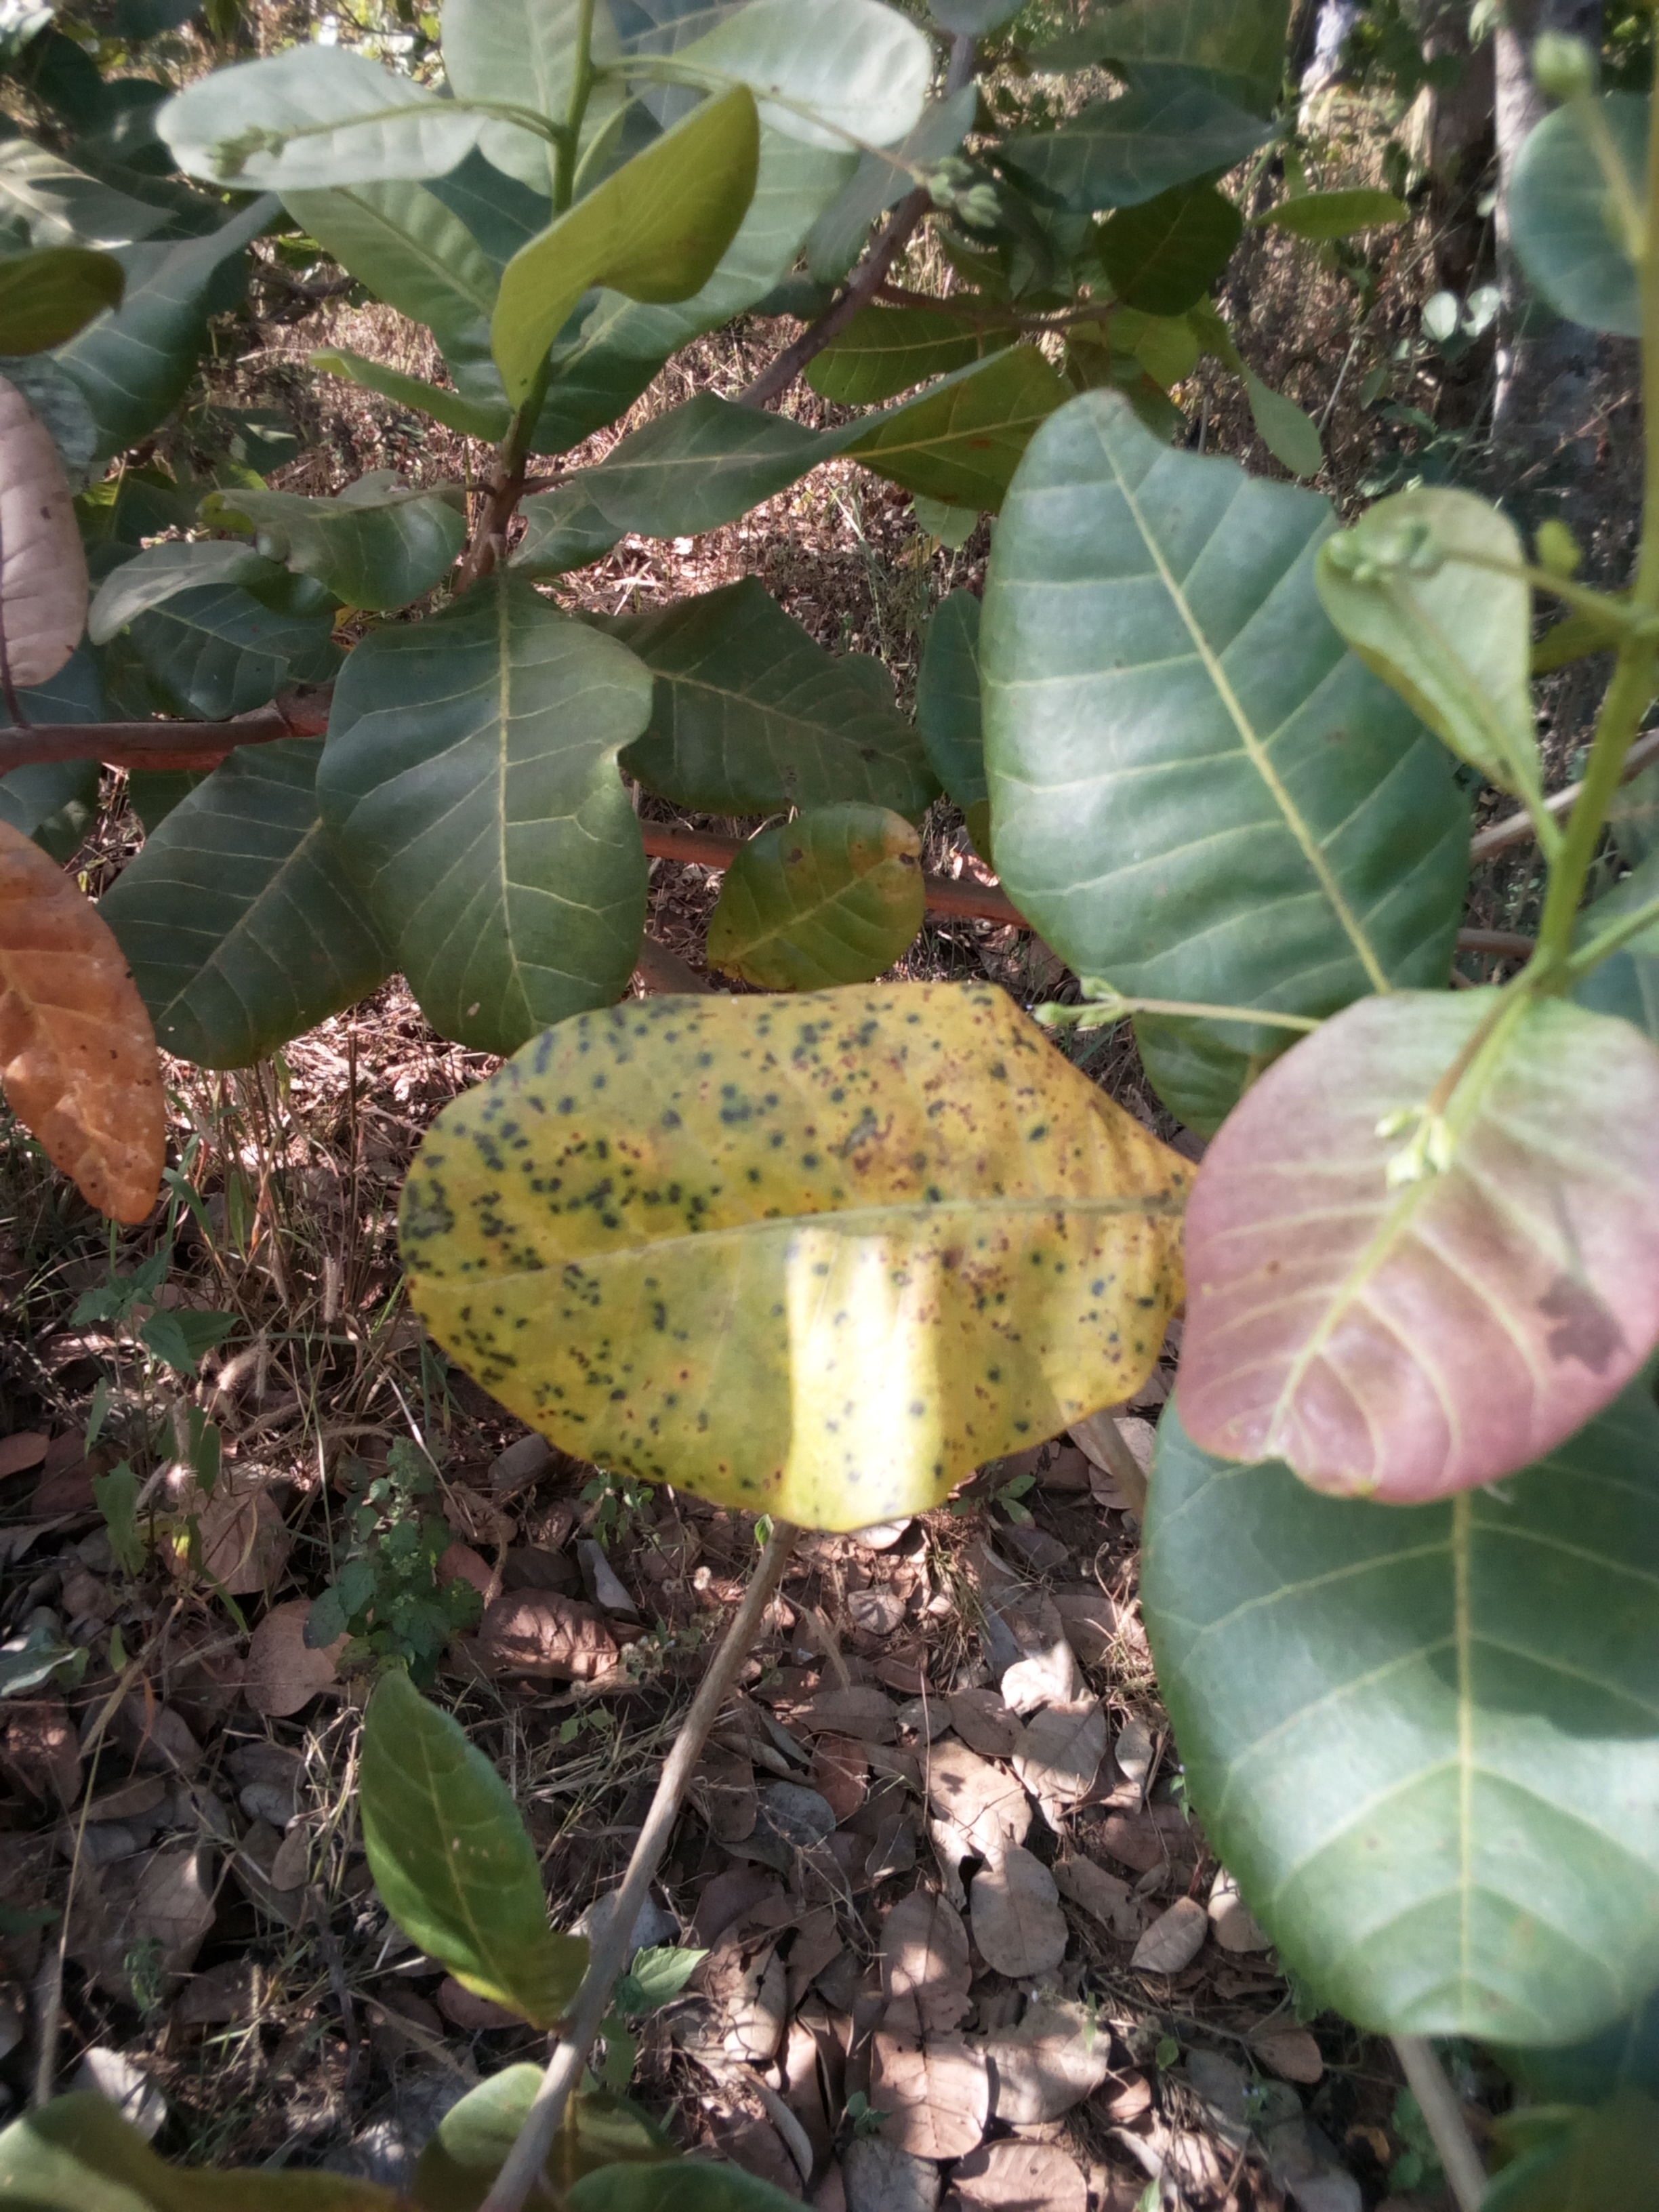Bactériose: (413, 984, 1199, 1533)
